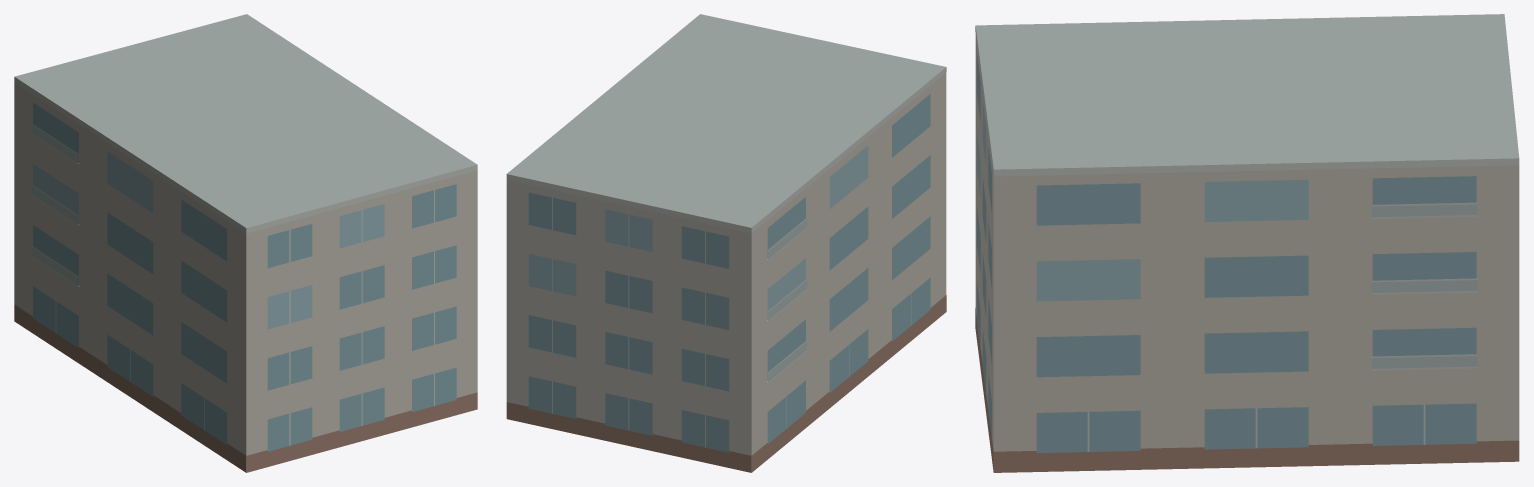
The model's file is survey-upis-32815561.glb.
3 renders of one model, left to right at view 1: azimuth 30°, elevation 25°; view 2: azimuth 150°, elevation 25°; view 3: azimuth 270°, elevation 25°, orthographic. The views are drawn at different scales.
Visible parts, largest first — view 1: survey-upis-32815561.tmp; view 2: survey-upis-32815561.tmp; view 3: survey-upis-32815561.tmp.
Part boxes in pixels (x1=…): survey-upis-32815561.tmp: x1=14, y1=14, x2=477, y2=472; survey-upis-32815561.tmp: x1=506, y1=14, x2=946, y2=472; survey-upis-32815561.tmp: x1=975, y1=14, x2=1519, y2=472.
Bounding box in the file's own units: 11.95 × 10.85 × 17.64.
